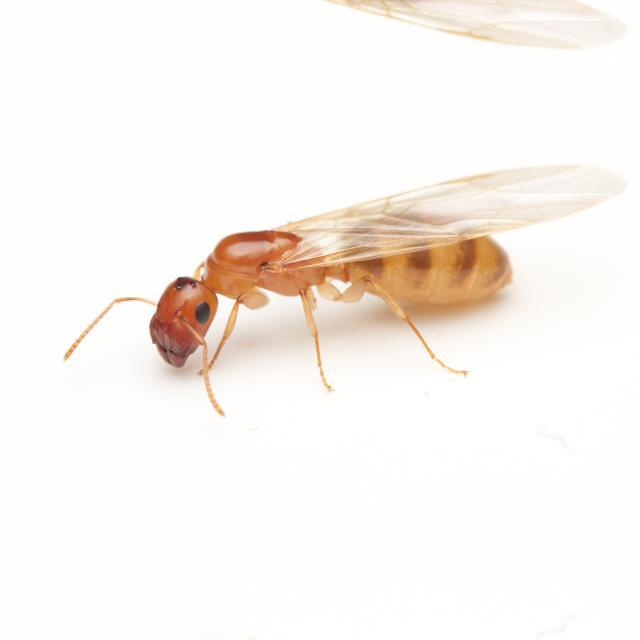Colobopsis: (77, 165, 566, 391), (75, 0, 564, 46)
